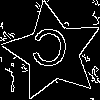C: (28, 27, 71, 78)
